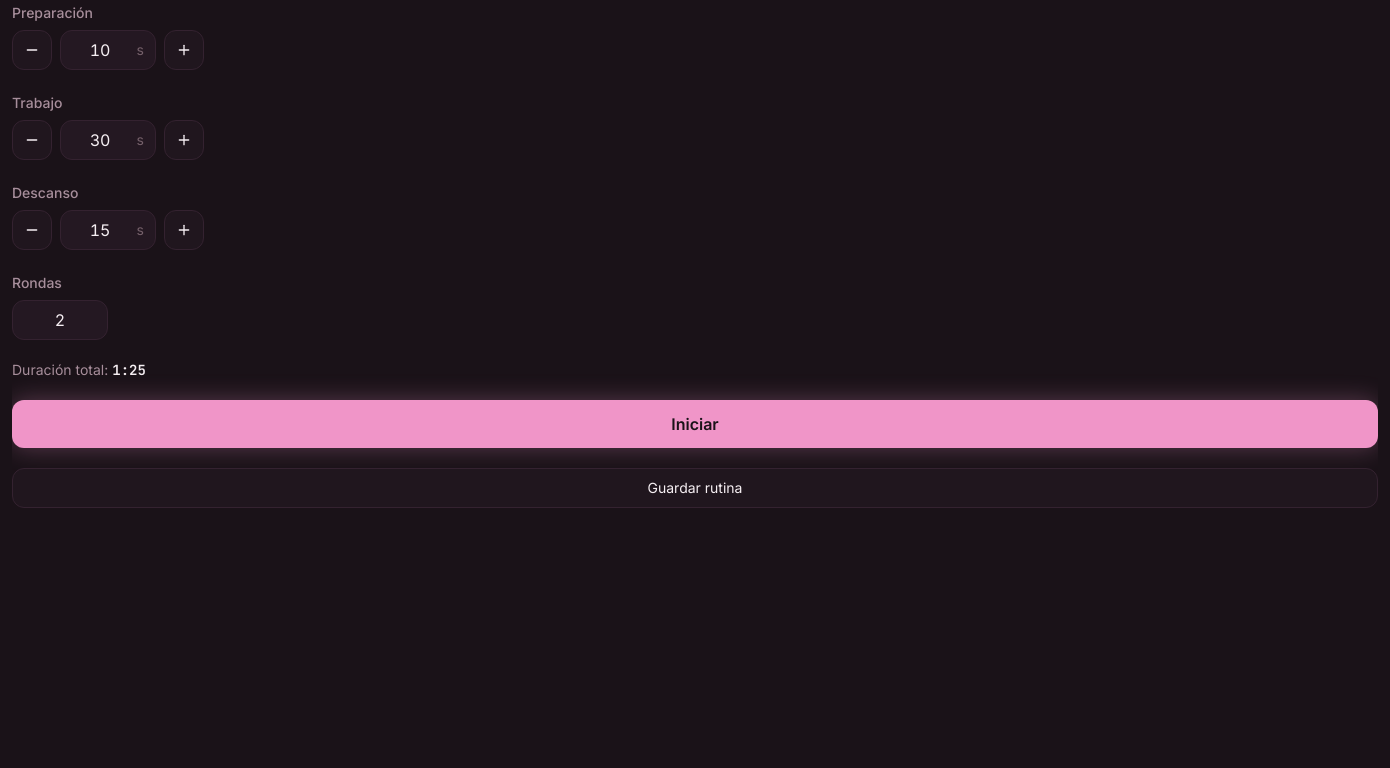
Test case: ClasicoConfigScreen — validación bloquea el inicio (spec timer-modes) › trabajo = 0 muestra el mensaje español «El trabajo debe durar al menos 1 segundo» y no inicia
Replace the text in the field labelled "Trabajo" with "0". click: (108,140)
box: [60,120,156,160]
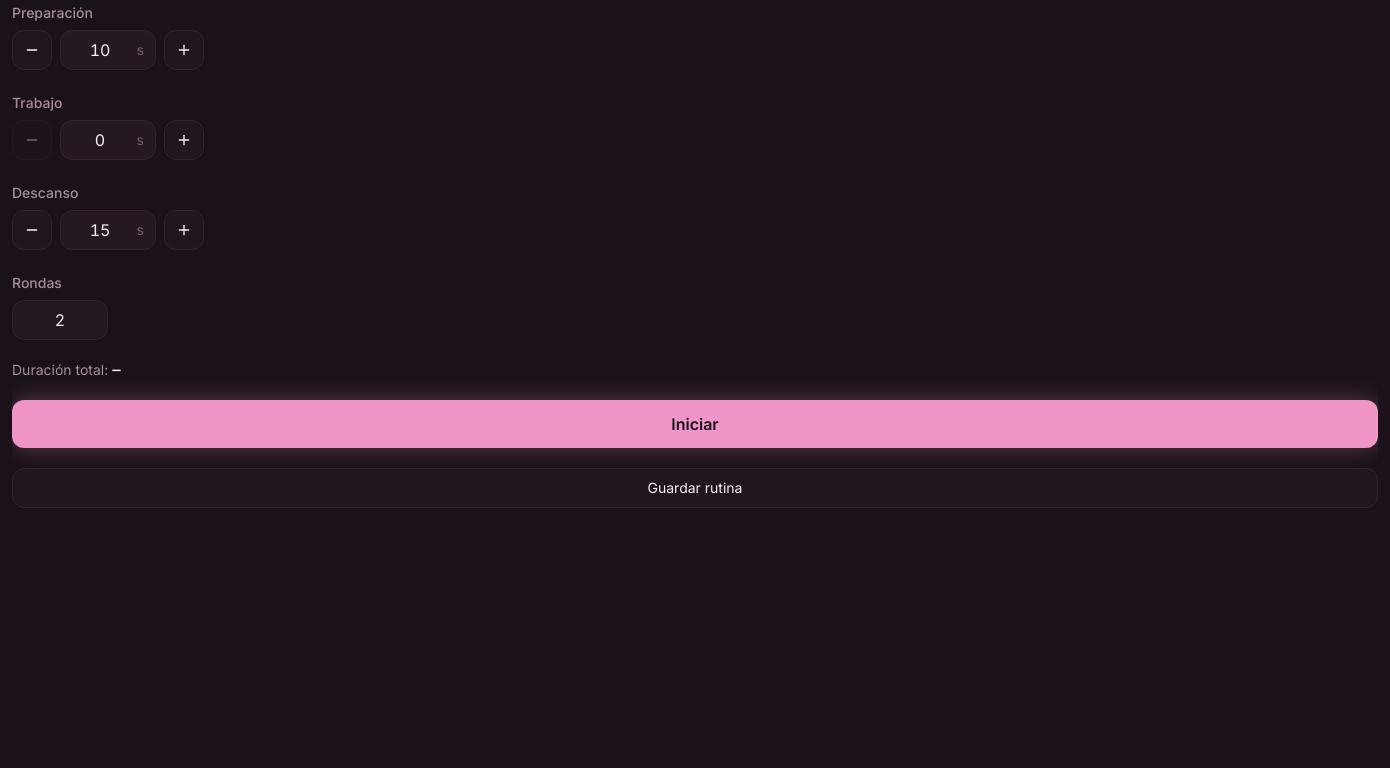
Click the button "Iniciar". click: (695,424)
box: [12,400,1378,448]
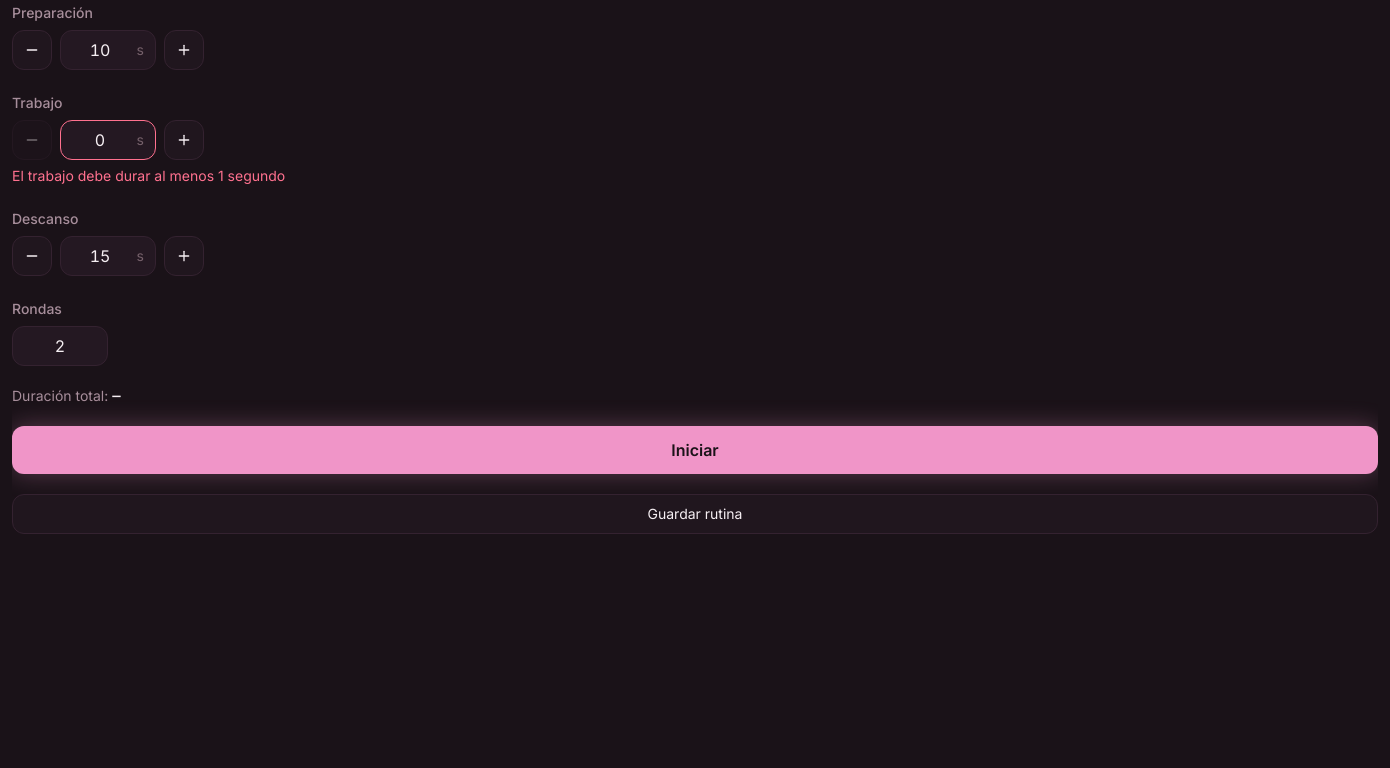
Check: the text "El trabajo debe durar al menos 1 segundo" is shown, box [12,167,285,184]
